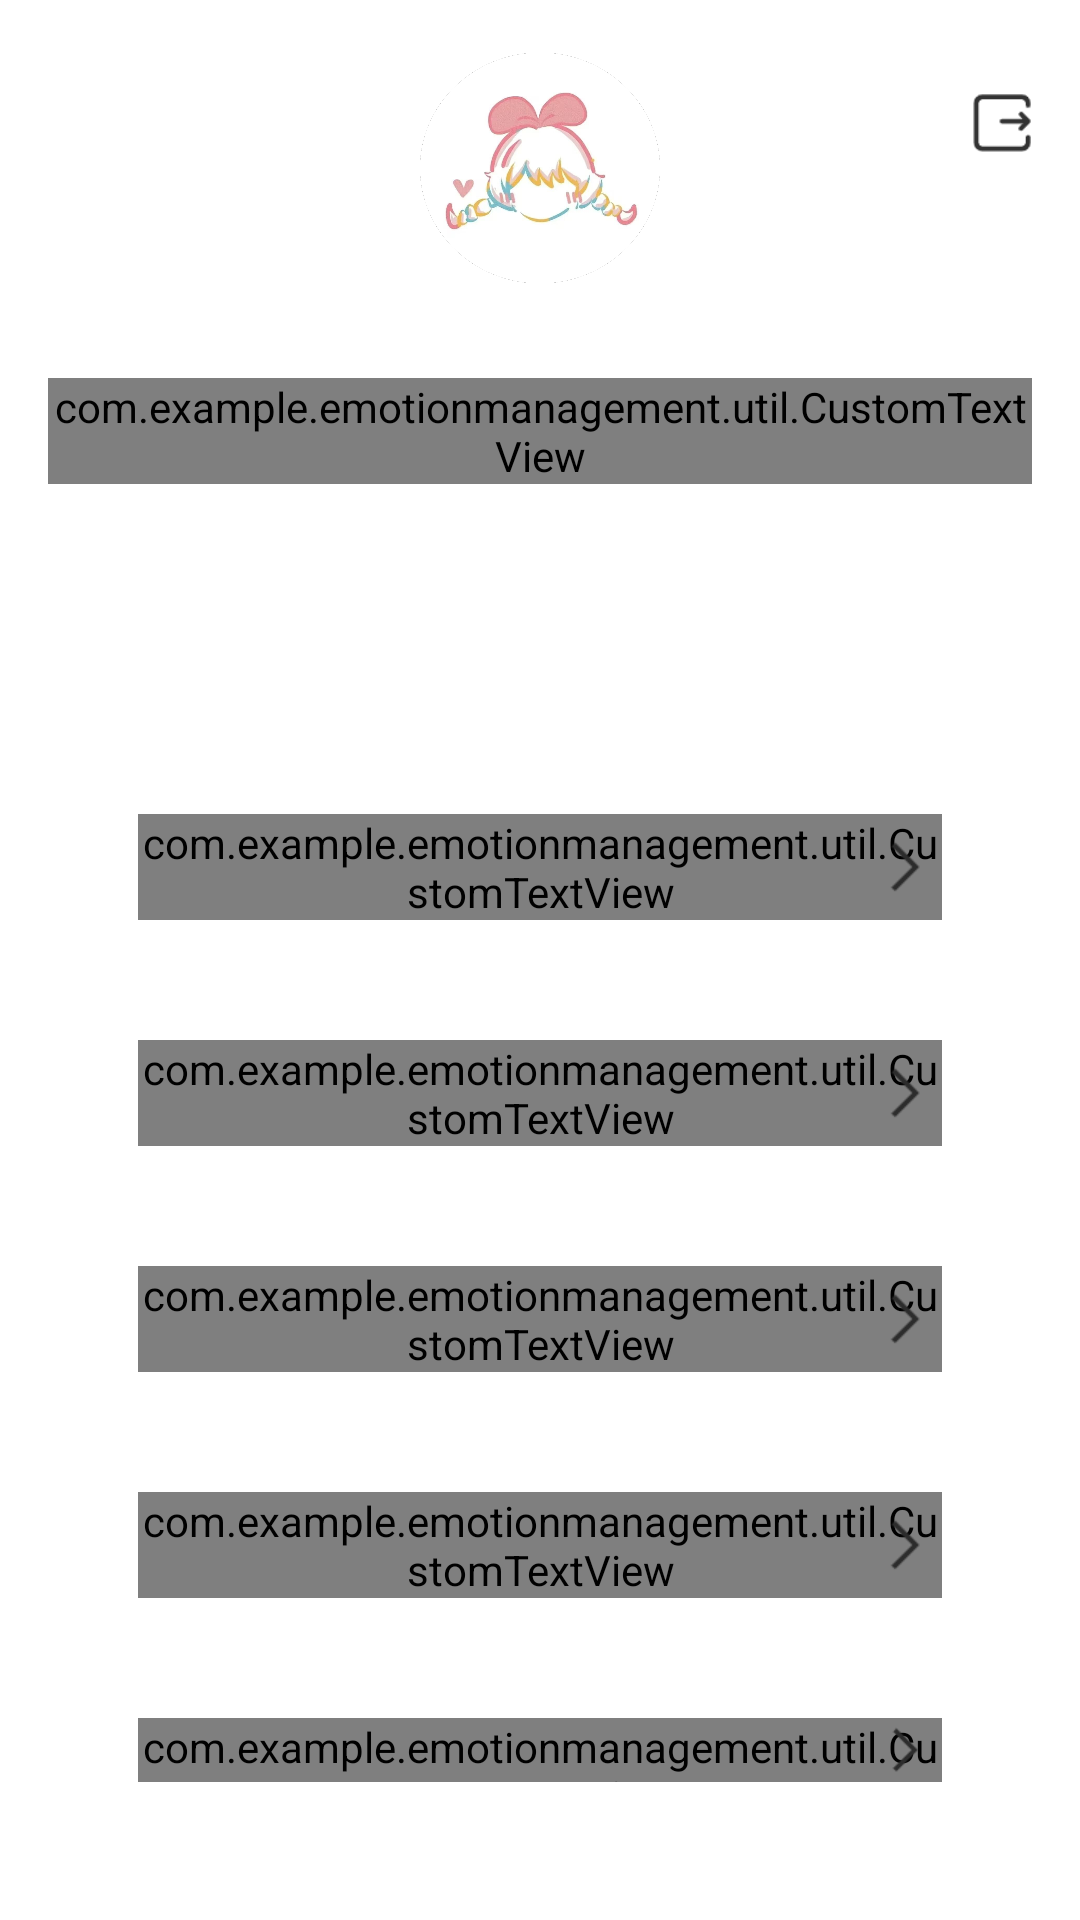

Icon bounding boxes for this 1080x1920 phone screenshot, format region(x1, y1, x2, y2):
exit: region(973, 94, 1031, 152)
